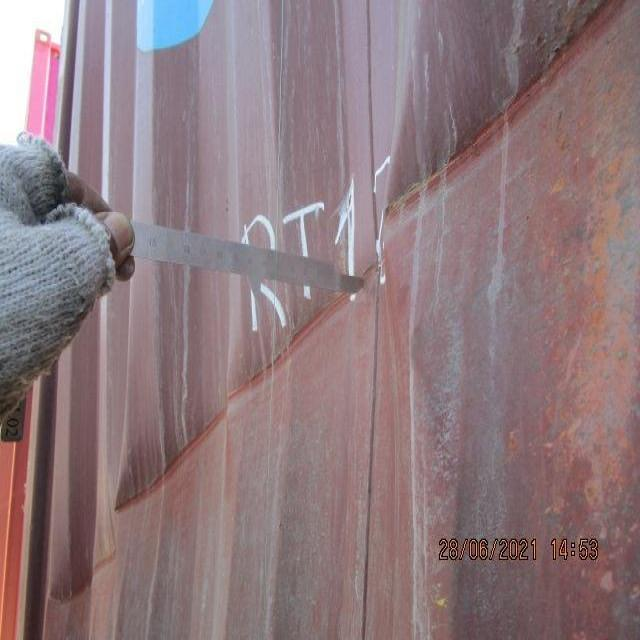Dent: (57, 12, 622, 609)
